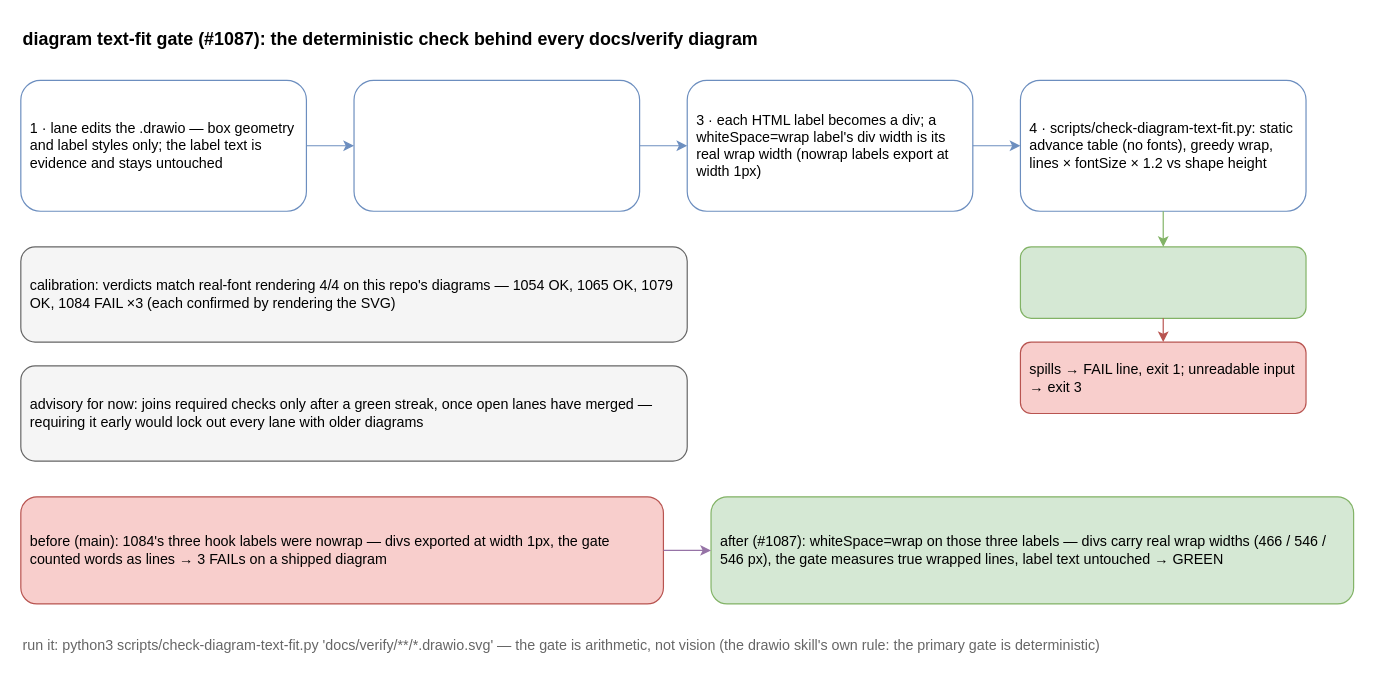
This 1374x683 diagram has some shape labels left out. The centre of each missing label's shape, as x and y in pixels:
2 · export: drawio -x -f svg -e --embed-svg-images -o x.drawio.svg x.drawio: (496,145)
fits → exit 0, advisory job green: (1162,282)
